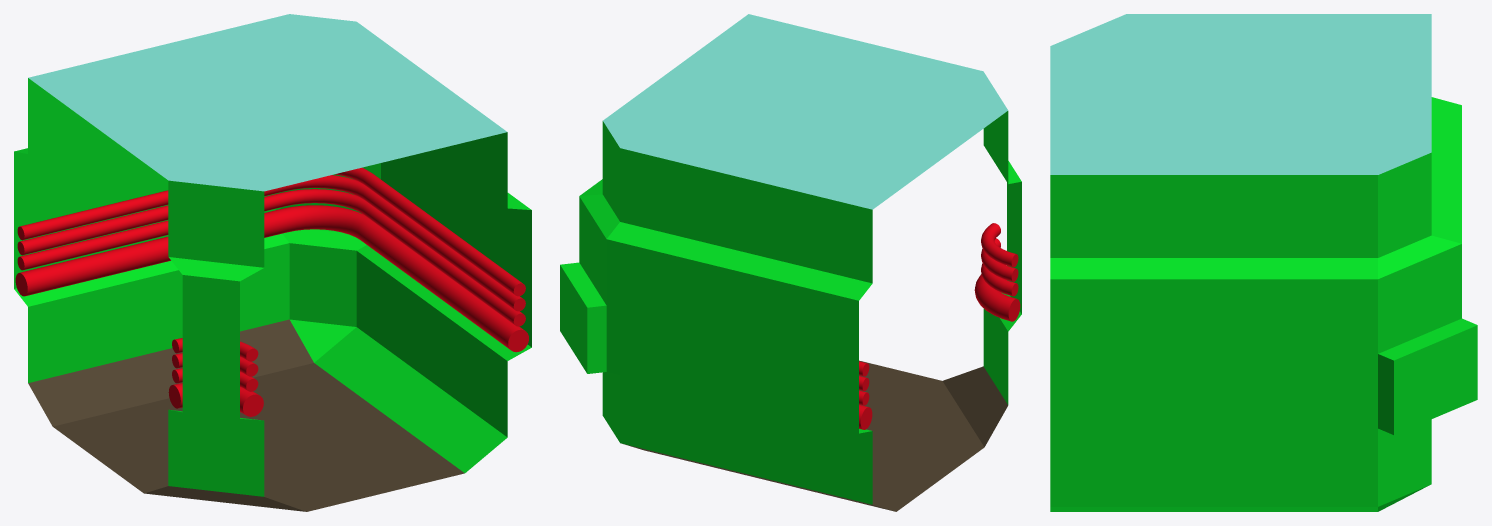
File: Corner_Straight.fbx
3 views of the same model, side by side, from view 1: azimuth 30°, elevation 25°; view 2: azimuth 150°, elevation 25°; view 3: azimuth 270°, elevation 25° (orthographic). The views are drawn at different scales.
Visible parts, largest first — view 1: Corner_Straight, Cylinder.008, Cylinder.004; view 2: Corner_Straight, Cylinder.004, Cylinder.008; view 3: Corner_Straight.
Part boxes in pixels (left/top/right/bottom): Corner_Straight: left=14, top=14, right=531, bottom=511; Cylinder.008: left=15, top=167, right=528, bottom=352; Cylinder.004: left=168, top=338, right=263, bottom=416; Corner_Straight: left=560, top=14, right=1021, bottom=511; Cylinder.004: left=974, top=223, right=1020, bottom=321; Cylinder.008: left=859, top=361, right=872, bottom=429; Corner_Straight: left=1050, top=14, right=1477, bottom=511.
Size of the model in its own units: 2.8 by 2.6 by 2.8.
